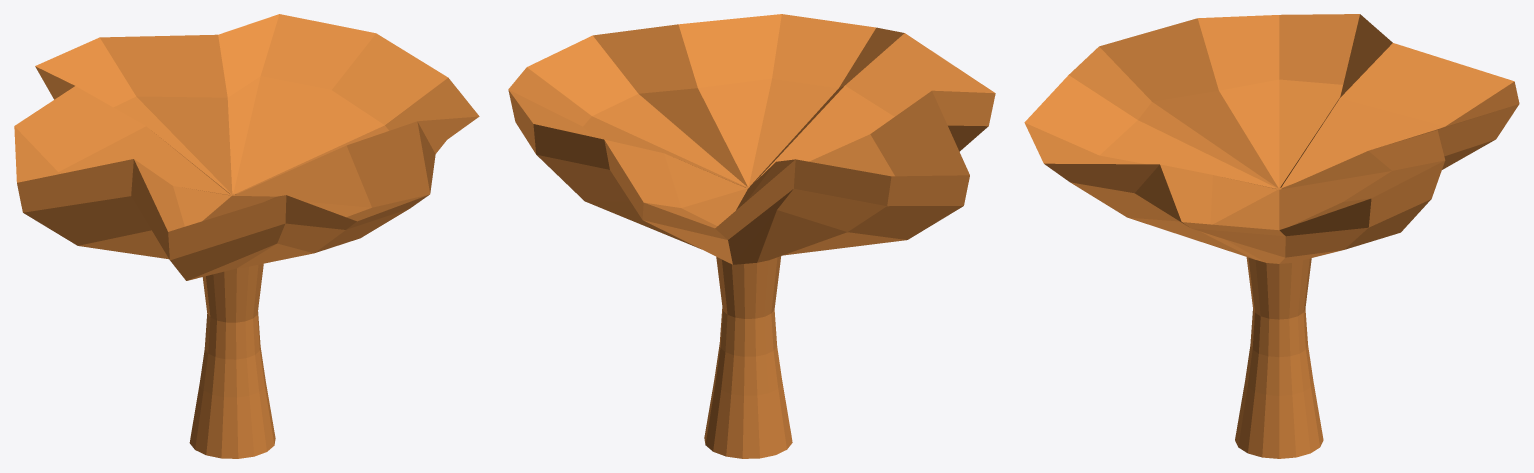
File: Mushroom_004.fbx
3 views of the same model, side by side, from view 1: azimuth 30°, elevation 25°; view 2: azimuth 150°, elevation 25°; view 3: azimuth 270°, elevation 25° (orthographic). The views are drawn at different scales.
Visible parts, largest first — view 1: mushroom_004; view 2: mushroom_004; view 3: mushroom_004.
Boxes of the visible parts, x1,y1,x2,y2 form: mushroom_004: [14, 14, 479, 458]; mushroom_004: [508, 14, 995, 458]; mushroom_004: [1024, 14, 1519, 458].
Bounding box in the file's own units: 36.38 × 27.79 × 35.35.
